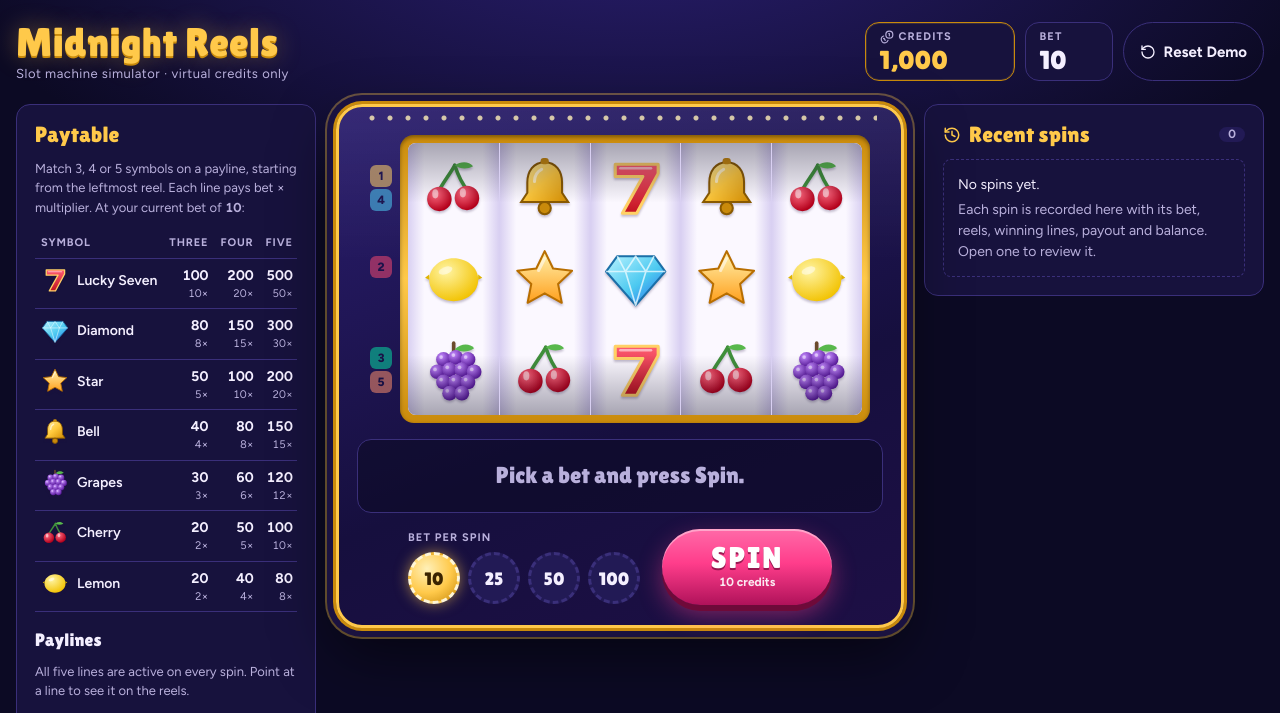
Test case: App › never saves a half-finished spin when the page closes mid-spin
The width and height of the screenshot is (1280, 713).
Click the button "Spin 10 credits".
click(747, 567)  # box [662,529,832,605]
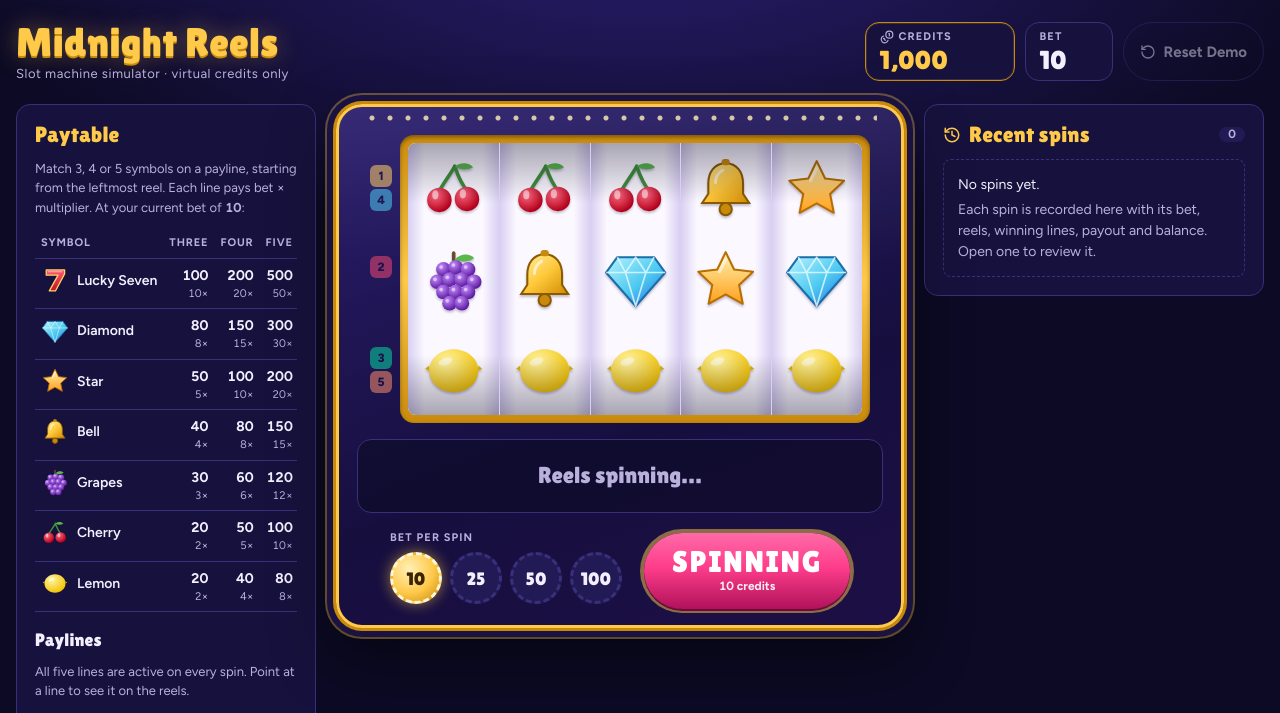
Check: the button "Reset Demo" is disabled, box [1122,22,1264,81]
